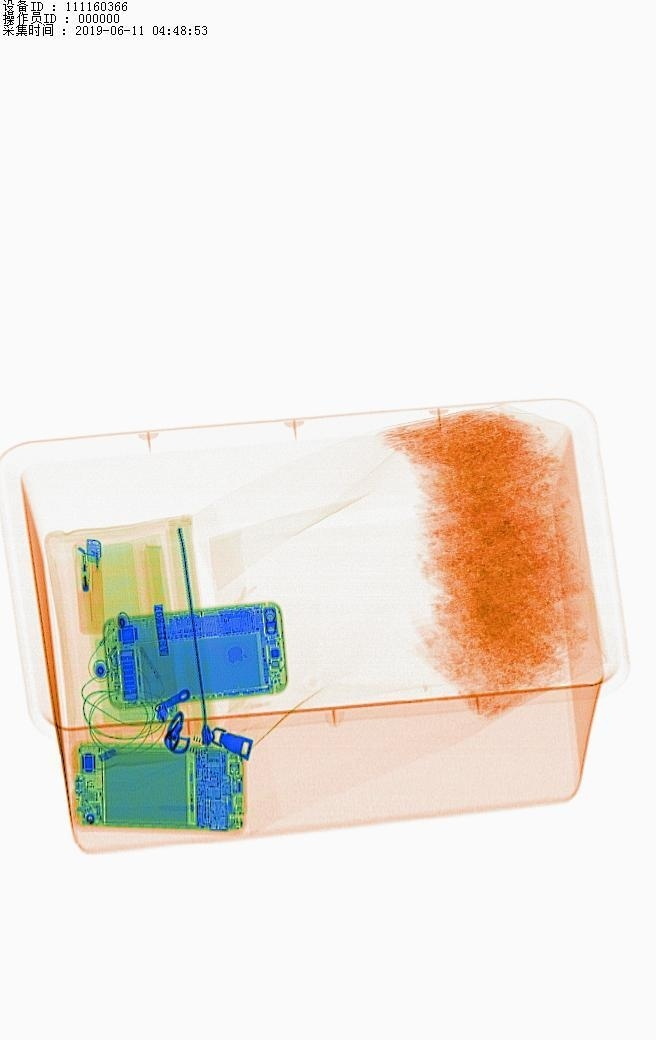NonmetallicFire: (60, 530, 119, 644)
